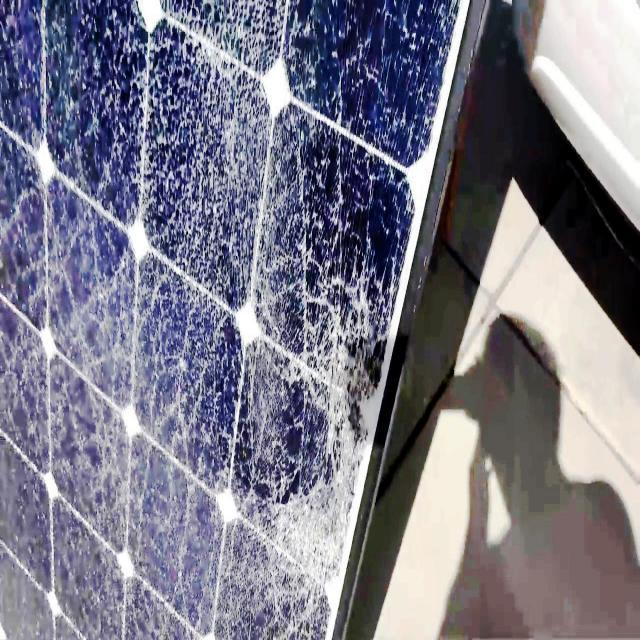faulty: (4, 5, 466, 640)
